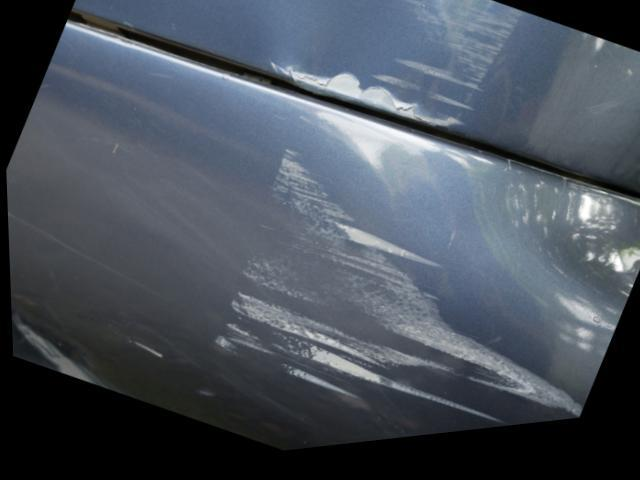scratch: (202, 154, 582, 439), (365, 0, 526, 140)
